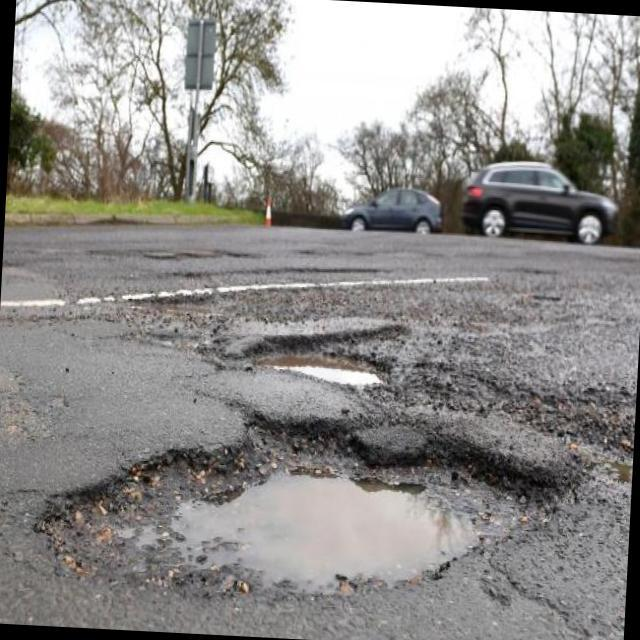Pothole: (38, 419, 566, 612), (255, 355, 382, 391)
